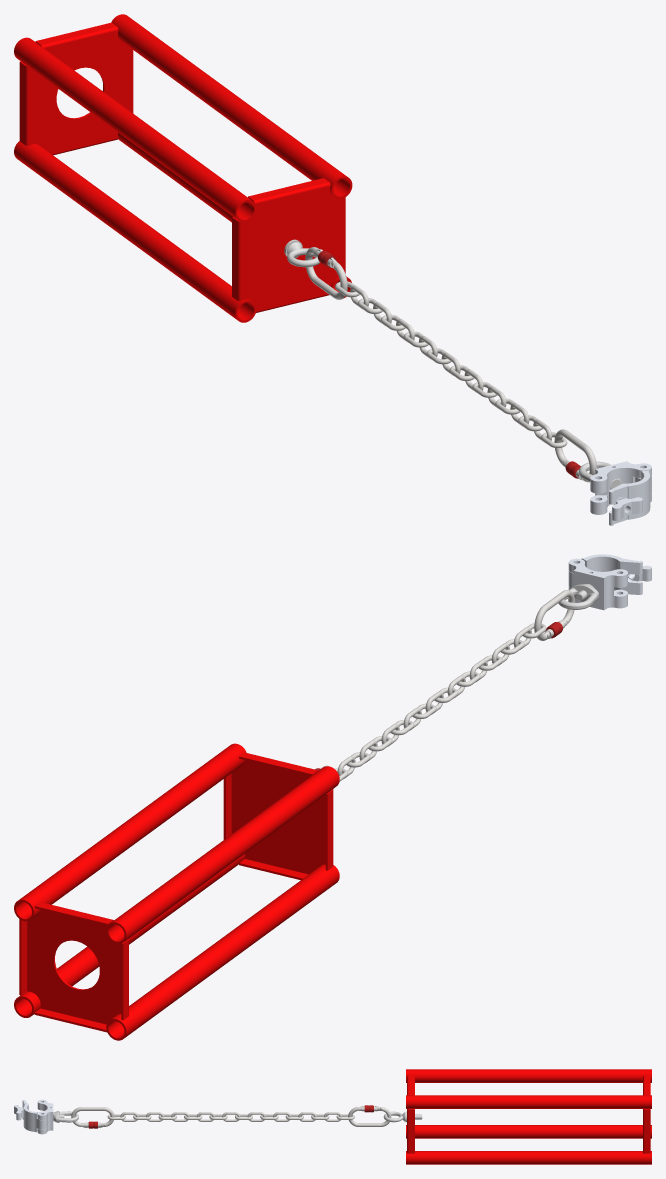
The model's file is RedDeepCage.fbx.
3 views of the same model, one above another, from view 1: azimuth 30°, elevation 25°; view 2: azimuth 150°, elevation 25°; view 3: azimuth 270°, elevation 25° (orthographic). The views are drawn at different scales.
Parts seen in each view (by area): view 1: GE-25201-02, GE-25201-01, GE-25201-03.002, GE-25201-03, GE-25201-03.003, FE-01016.001, FE-01016.002, 3216T41_Carabiner.001, GE-25201-03.001, 3216T41_Carabiner; view 2: GE-25201-01, GE-25201-02, GE-25201-03.002, GE-25201-03, GE-25201-03.003, GE-25201-03.001, FE-01016.001, FE-01016.002, 3216T41_Carabiner; view 3: GE-25201-03.003, GE-25201-03.001, GE-25201-03.002, GE-25201-03, GE-25201-01, GE-25201-02, FE-01016.002, FE-01016.001, 3216T41_Carabiner.001, 3216T41_Carabiner, eyenut_.5-13_3019T18, eyebolt_shoulder_.5_13_1.5.
Part boxes in pixels (bbox=[...]): GE-25201-02: bbox=[232, 178, 345, 312]; GE-25201-01: bbox=[19, 22, 133, 155]; GE-25201-03.002: bbox=[14, 37, 256, 222]; GE-25201-03: bbox=[14, 141, 256, 322]; GE-25201-03.003: bbox=[111, 14, 352, 198]; FE-01016.001: bbox=[590, 461, 651, 514]; FE-01016.002: bbox=[609, 470, 651, 525]; 3216T41_Carabiner.001: bbox=[305, 247, 347, 299]; GE-25201-03.001: bbox=[118, 132, 351, 298]; 3216T41_Carabiner: bbox=[554, 429, 596, 482]; GE-25201-01: bbox=[19, 902, 128, 1032]; GE-25201-02: bbox=[223, 752, 333, 880]; GE-25201-03.002: bbox=[106, 766, 339, 943]; GE-25201-03: bbox=[106, 864, 339, 1040]; GE-25201-03.003: bbox=[14, 743, 246, 921]; GE-25201-03.001: bbox=[14, 854, 244, 1017]; FE-01016.001: bbox=[568, 558, 627, 610]; FE-01016.002: bbox=[568, 554, 642, 594]; 3216T41_Carabiner: bbox=[534, 590, 575, 640]; GE-25201-03.003: bbox=[406, 1095, 651, 1108]; GE-25201-03.001: bbox=[406, 1151, 651, 1164]; GE-25201-03.002: bbox=[406, 1069, 651, 1082]; GE-25201-03: bbox=[406, 1125, 651, 1138]; GE-25201-01: bbox=[643, 1075, 650, 1153]; GE-25201-02: bbox=[407, 1075, 414, 1153]; FE-01016.002: bbox=[22, 1100, 47, 1132]; FE-01016.001: bbox=[37, 1099, 53, 1134]; 3216T41_Carabiner.001: bbox=[348, 1105, 391, 1126]; 3216T41_Carabiner: bbox=[71, 1107, 114, 1128]; eyenut_.5-13_3019T18: bbox=[53, 1111, 78, 1122]; eyebolt_shoulder_.5_13_1.5: bbox=[383, 1111, 422, 1122].
Bounding box in the file's own units: 18.56 × 18.58 × 158.
